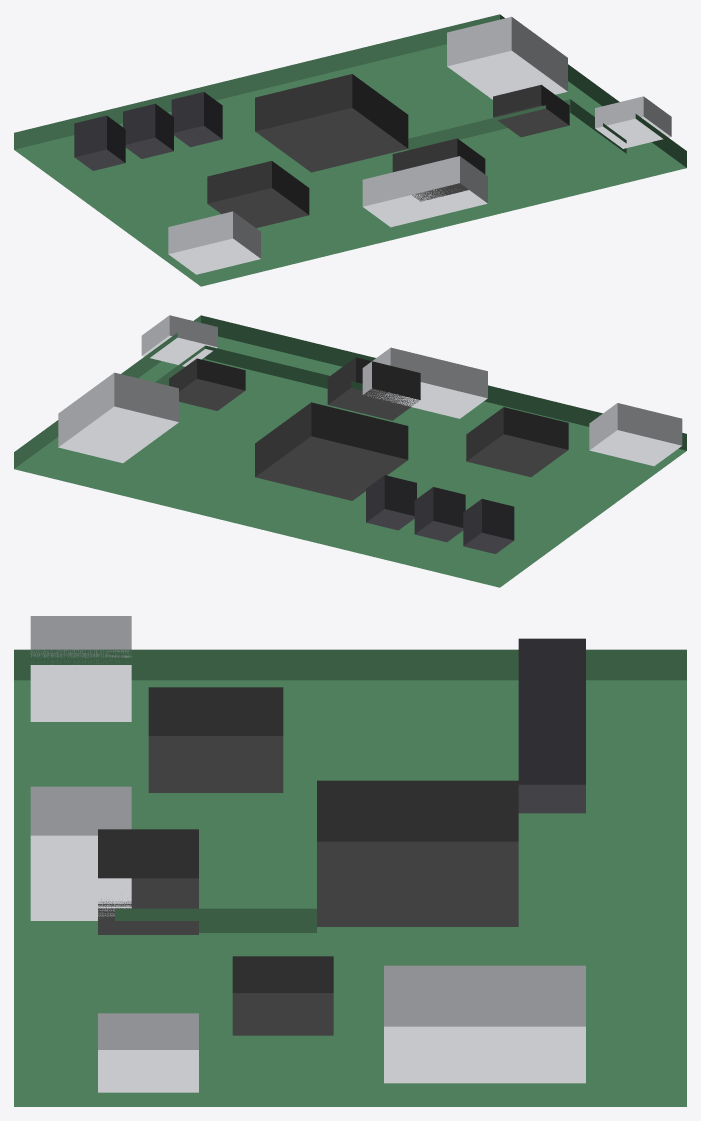
Rendered from mainboard.gltf.
3 renders of one model, top to bottom at view 1: azimuth 30°, elevation 25°; view 2: azimuth 150°, elevation 25°; view 3: azimuth 270°, elevation 25°, orthographic. The views are drawn at different scales.
Parts seen in each view (by area): view 1: mainboard; view 2: mainboard; view 3: mainboard.
Boxes of the visible parts, x1=… form: mainboard: x1=14, y1=14, x2=686, y2=286; mainboard: x1=14, y1=315, x2=686, y2=587; mainboard: x1=14, y1=616, x2=686, y2=1106.
Size of the model in its own units: 0.305 by 0.023 by 0.2.
